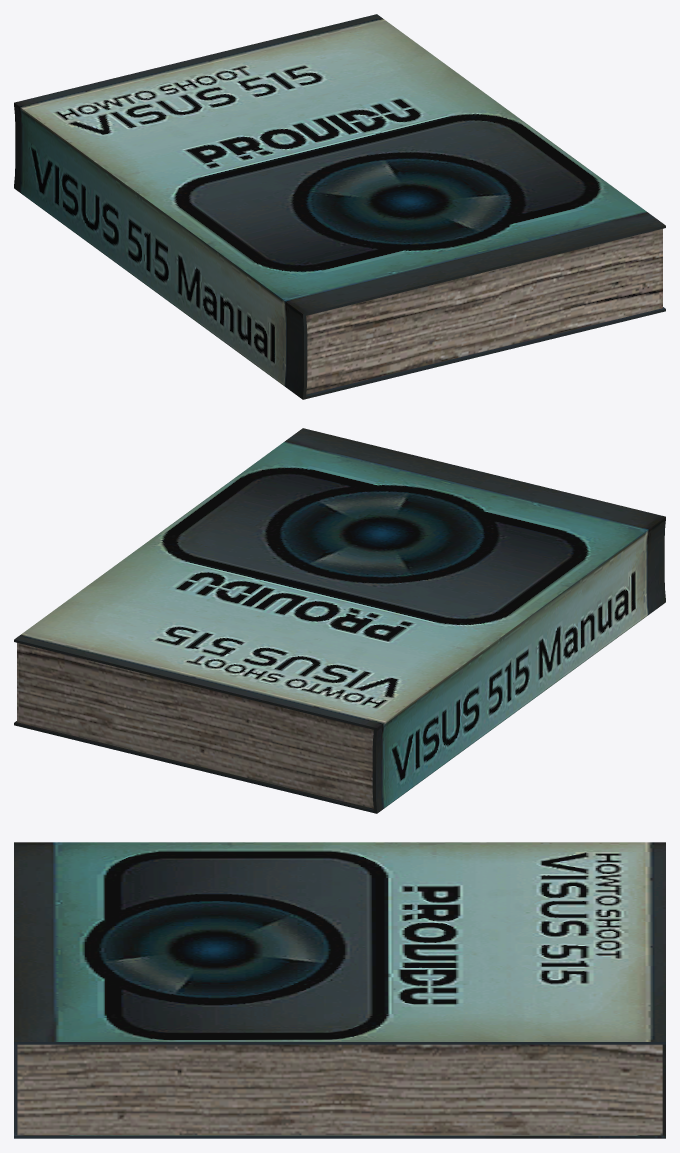
Rendered from manual.DAE.
The picture shows the model from 3 angles, top to bottom: view 1: azimuth 30°, elevation 25°; view 2: azimuth 150°, elevation 25°; view 3: azimuth 270°, elevation 25°; orthographic projection. The views are drawn at different scales.
Parts seen in each view (by area): view 1: manual; view 2: manual; view 3: manual.
Boxes of the visible parts, box(x1,y1,x2,y2) form: manual: box(14, 14, 665, 399); manual: box(14, 428, 665, 813); manual: box(14, 842, 665, 1138).
Size of the model in its own units: 218 by 49.07 by 300.
